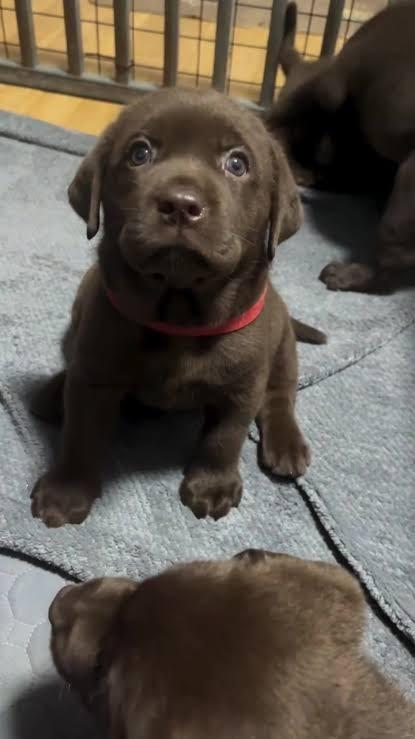puppy-dog: (31, 88, 326, 530), (47, 549, 415, 739), (264, 1, 415, 296)
